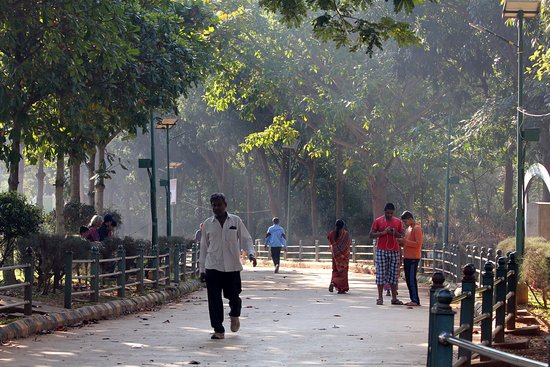person: (195, 192, 259, 340), (368, 203, 405, 305), (324, 217, 356, 296), (399, 211, 424, 307), (262, 217, 290, 277), (87, 214, 104, 248), (78, 225, 91, 243)
